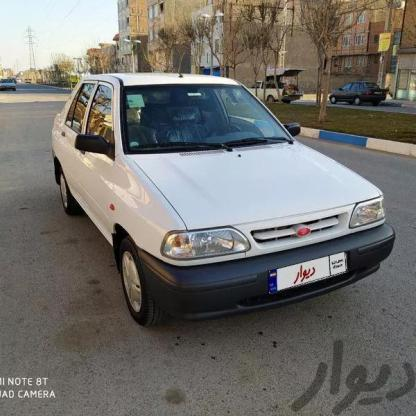Car: (42, 68, 402, 324), (317, 76, 396, 107), (238, 76, 298, 100), (0, 51, 17, 97)
